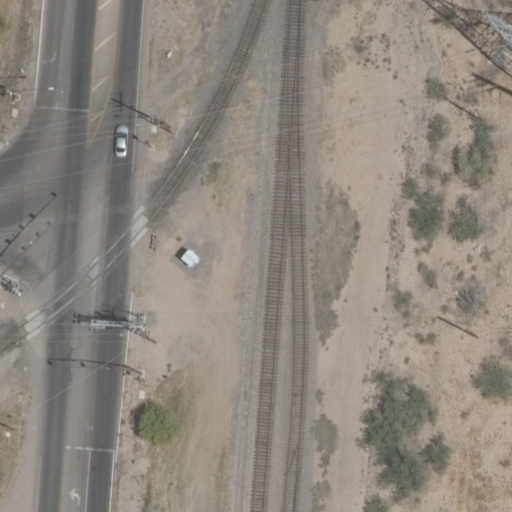DT: (122, 313, 156, 338), (146, 111, 173, 138)
